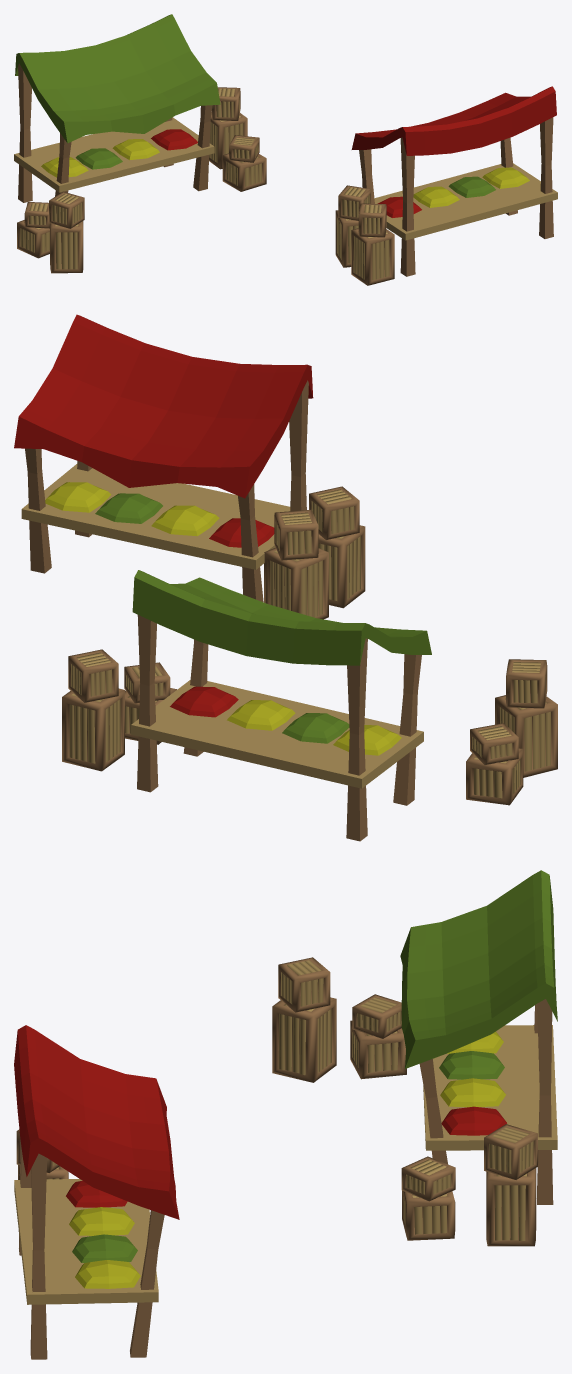
Rendered from Market_FirstAge_Level1.glb.
3 views of the same model, one above another, from view 1: azimuth 30°, elevation 25°; view 2: azimuth 150°, elevation 25°; view 3: azimuth 270°, elevation 25° (orthographic). The views are drawn at different scales.
Visible parts, largest first — view 1: Market_FirstAge_Level1; view 2: Market_FirstAge_Level1; view 3: Market_FirstAge_Level1.
Part boxes in pixels (x1,y1,x2,y2): Market_FirstAge_Level1: (14,14,557,285); Market_FirstAge_Level1: (14,314,557,841); Market_FirstAge_Level1: (14,870,557,1359).
Size of the model in its own units: 1.62 by 0.5514 by 1.22.
1 material, 1 textured.
